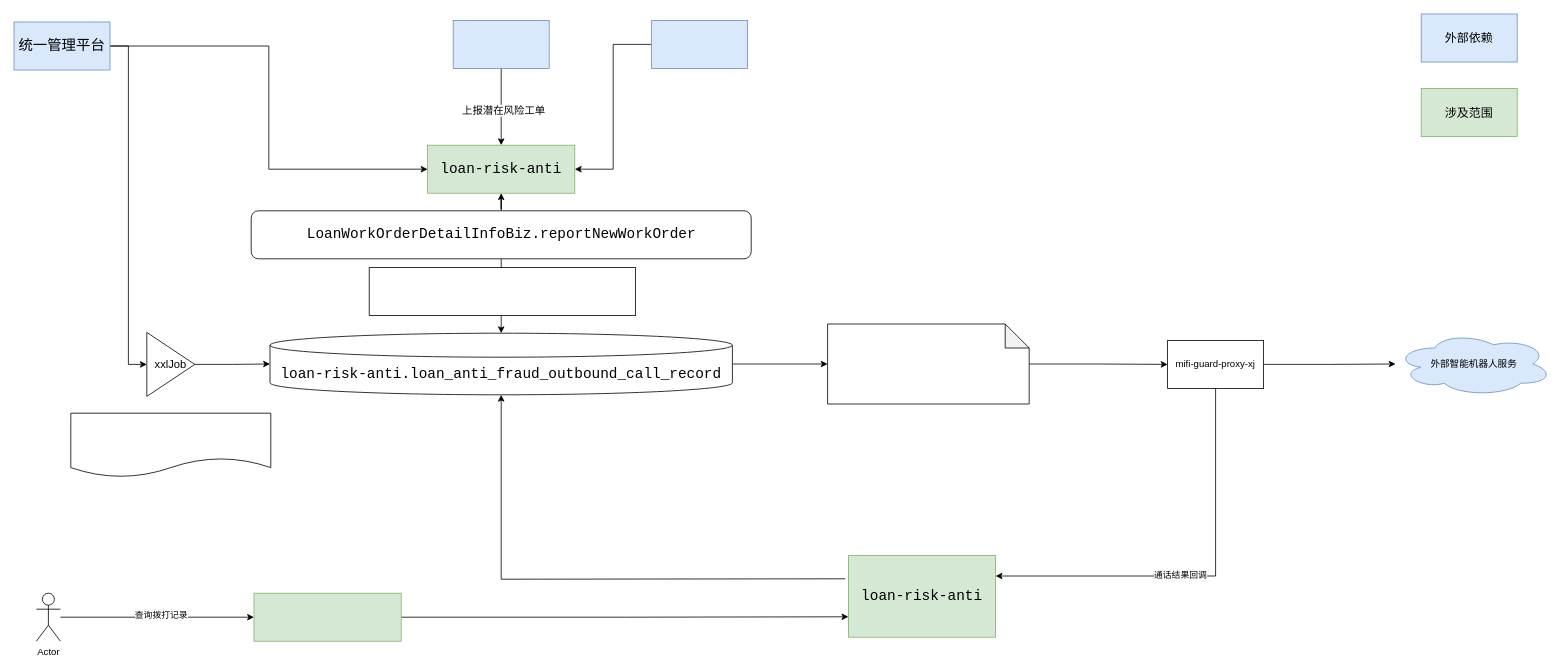
The diagram is 1566 pixels wide and 672 high, and some of its shapes have lost their labels. The shapes that lost their labels are listed below. From the top down, each one's centre as x and y in pixels, then its label:
At (500,44): "政策系统".
At (699,44): "催收系统".
At (502,291): "消息发送后，计算出外拨电话时间，写入记录表 （当前是延迟1分钟作为外拨时间）".
At (928,363): "查询出没有拨打过电话，或者拨打过但是没有接听且拨打次数小于2次，且产品id为102（快手） 并且达到了外拨时间 的数据".
At (170,444): "规定只能在8-20时间段拨打电话 为避免出现时间差，定时任务在9-19点执行".
At (327,616): "loan-operation-management".
